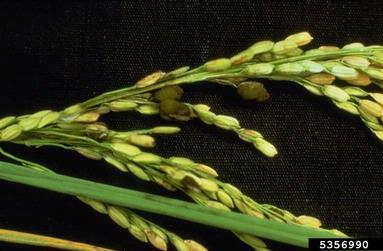False Smut: (146, 78, 195, 124), (231, 76, 269, 110)
